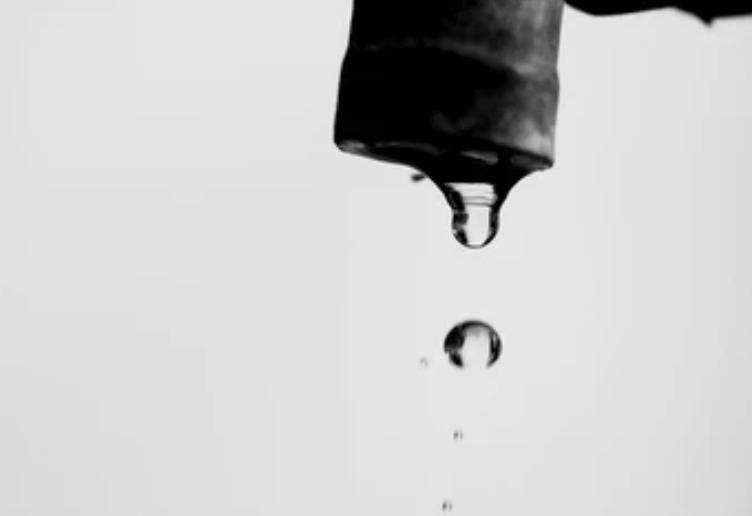water drop: (422, 156, 526, 250), (445, 319, 503, 368)
